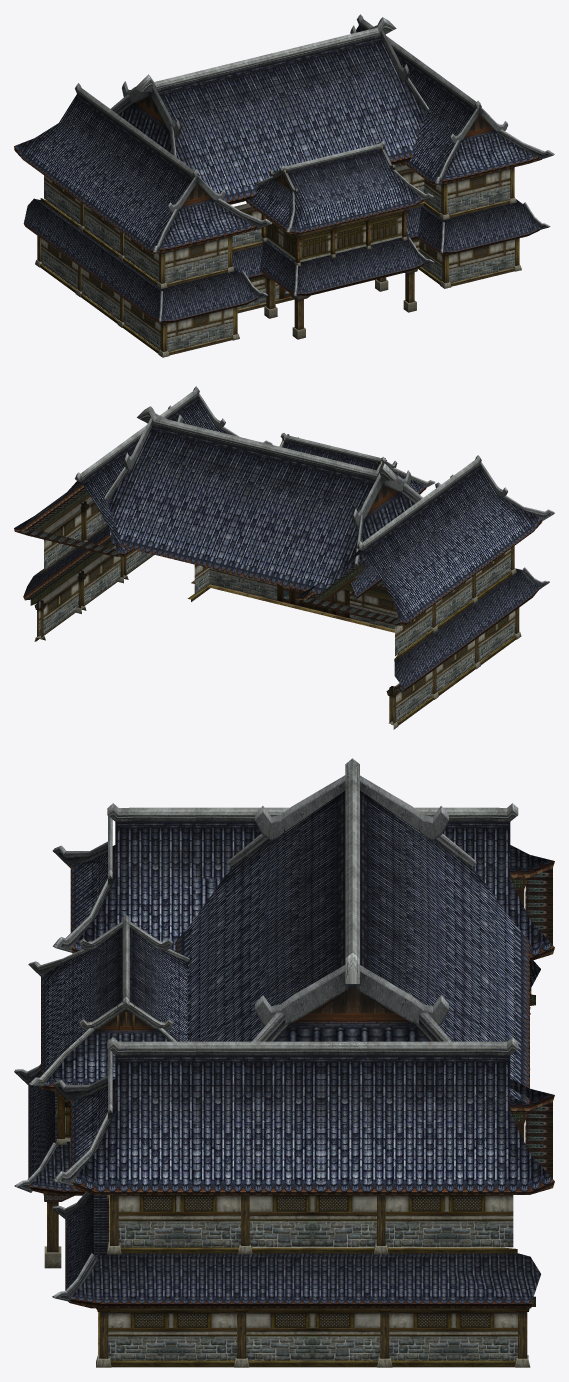
Rendered from b1-006-castle01.fbx.
3 renders of one model, top to bottom at view 1: azimuth 30°, elevation 25°; view 2: azimuth 150°, elevation 25°; view 3: azimuth 270°, elevation 25°, orthographic. The views are drawn at different scales.
Parts seen in each view (by area): view 1: b1-006-castle-02, b1-006-castle-04, b1-006-castle-01, b1-006-castle-03, b1-006-castle-05; view 2: b1-006-castle-02, b1-006-castle-04, b1-006-castle-01, b1-006-castle-03; view 3: b1-006-castle-02, b1-006-castle-04, b1-006-castle-01, b1-006-castle-03, b1-006-castle-05.
Boxes of the visible parts, x1,y1,x2,y2 form: b1-006-castle-02: (14, 14, 541, 266); b1-006-castle-04: (35, 163, 550, 357); b1-006-castle-01: (23, 198, 540, 322); b1-006-castle-03: (110, 25, 554, 262); b1-006-castle-05: (264, 268, 417, 339); b1-006-castle-02: (14, 386, 542, 625); b1-006-castle-04: (30, 496, 549, 729); b1-006-castle-01: (23, 525, 540, 692); b1-006-castle-03: (104, 393, 554, 569); b1-006-castle-02: (28, 758, 554, 1194); b1-006-castle-04: (14, 890, 535, 1367); b1-006-castle-01: (28, 960, 540, 1308); b1-006-castle-03: (52, 775, 476, 1186); b1-006-castle-05: (43, 1194, 74, 1268).
Bounding box in the file's own units: 30.4 × 15.42 × 20.84.
